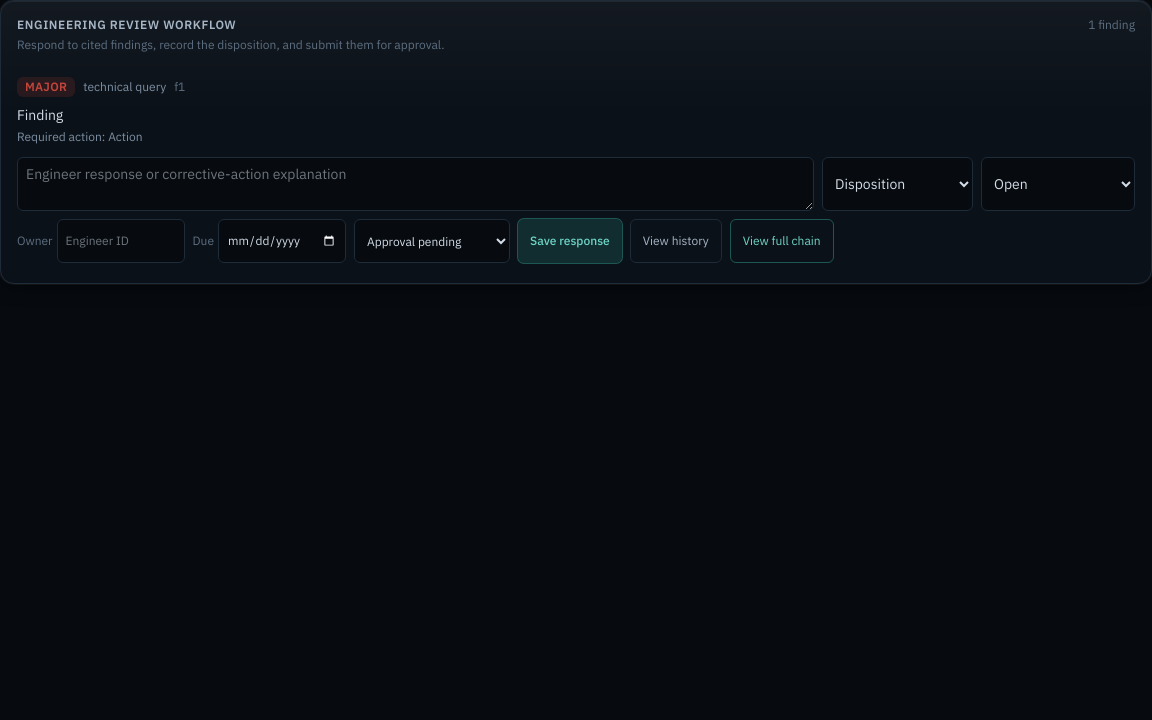
Test: renders the complete traceability chain returned by the API
The width and height of the screenshot is (1152, 720).
Click the button "View full chain" at [782, 241], box [730,219,834,263]
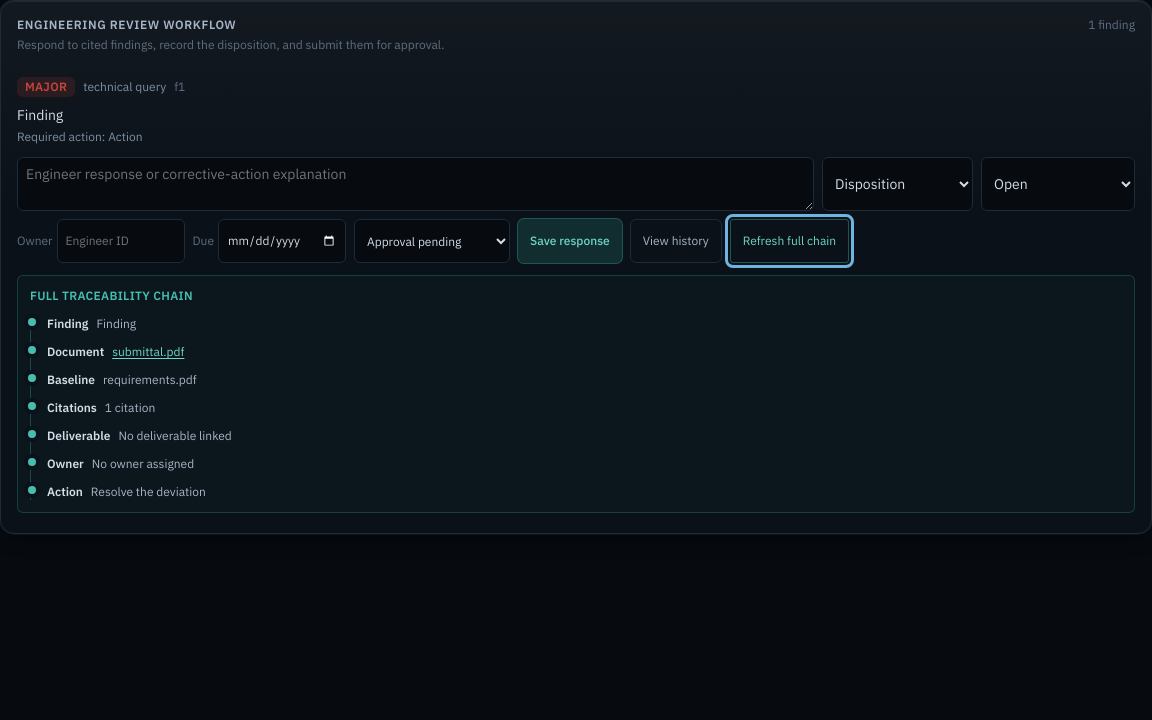
Expected: the element named "Finding traceability" shows "Finding", [47,316,88,331]
Expected: the element named "Finding traceability" shows "submittal.pdf", [112,344,184,359]
Expected: the element named "Finding traceability" shows "requirements.pdf", [103,372,197,387]
